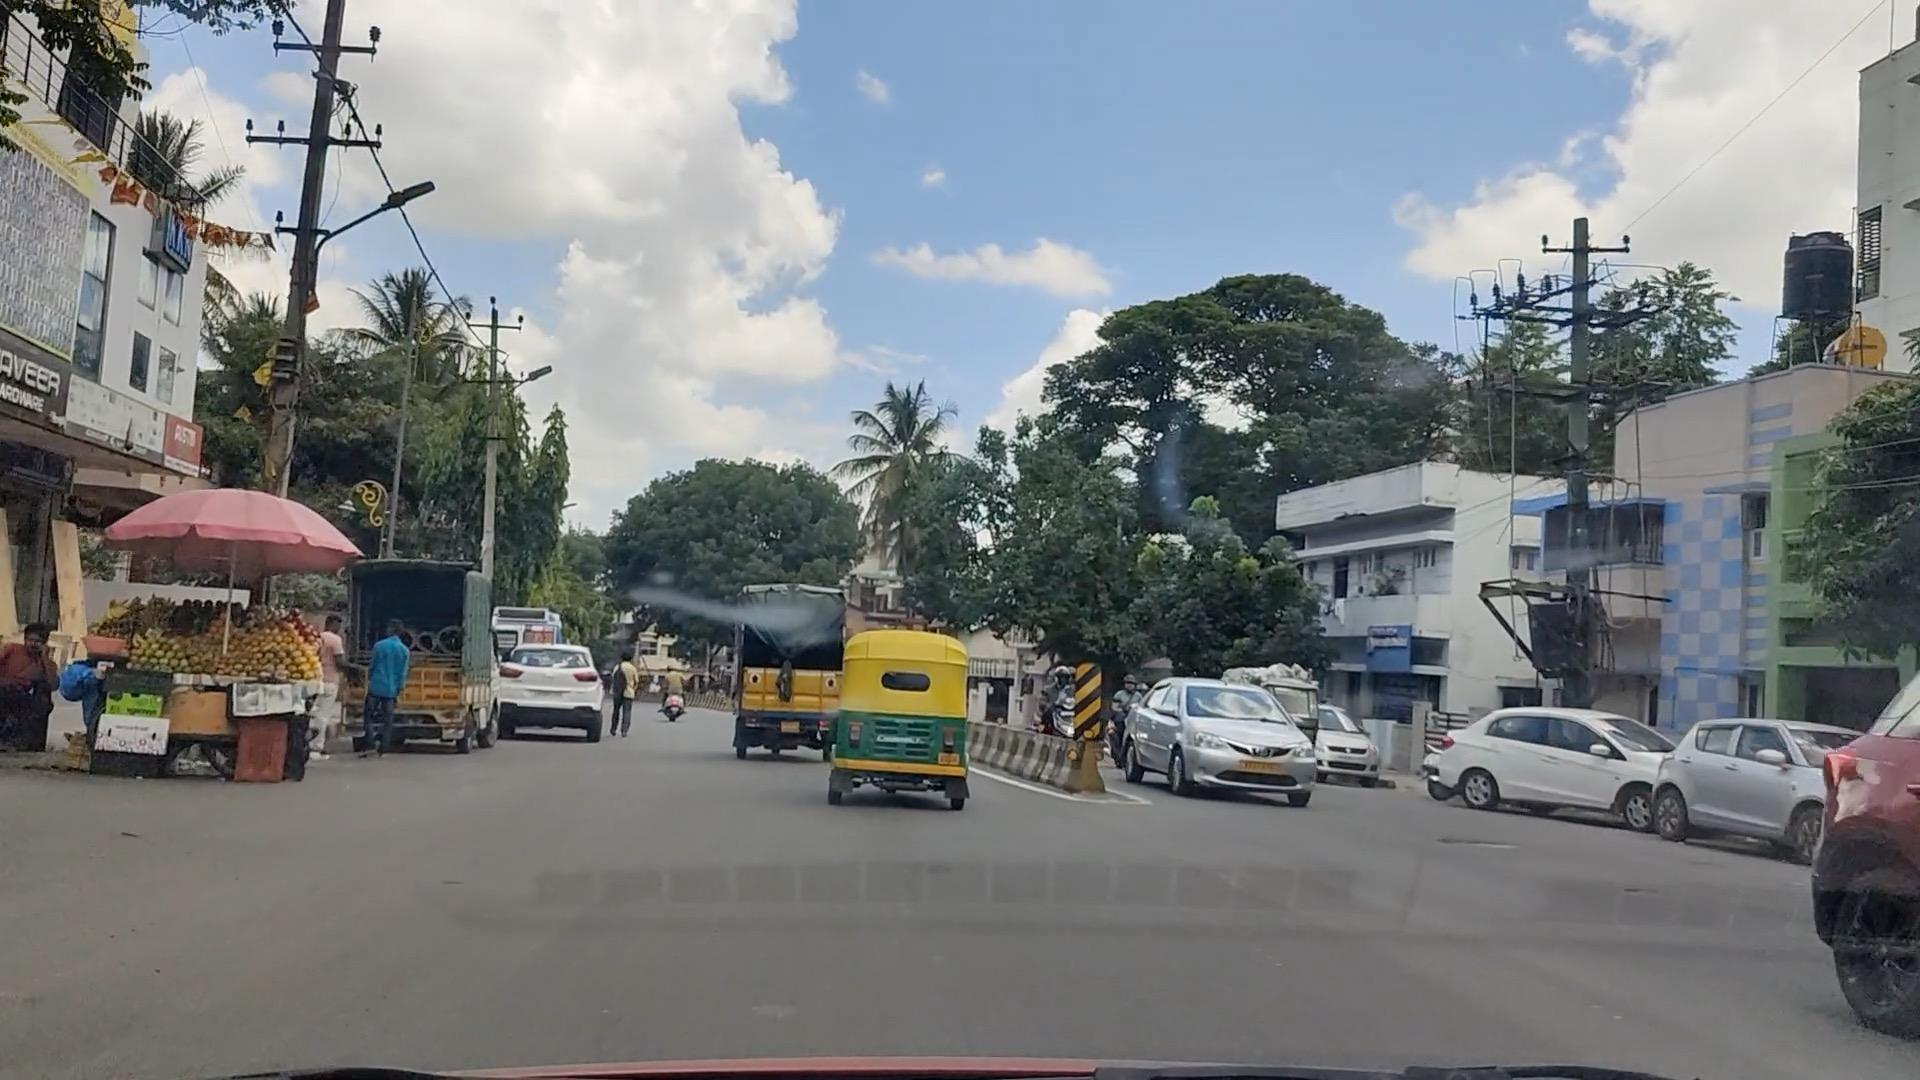LMV: (844, 633, 961, 808)
